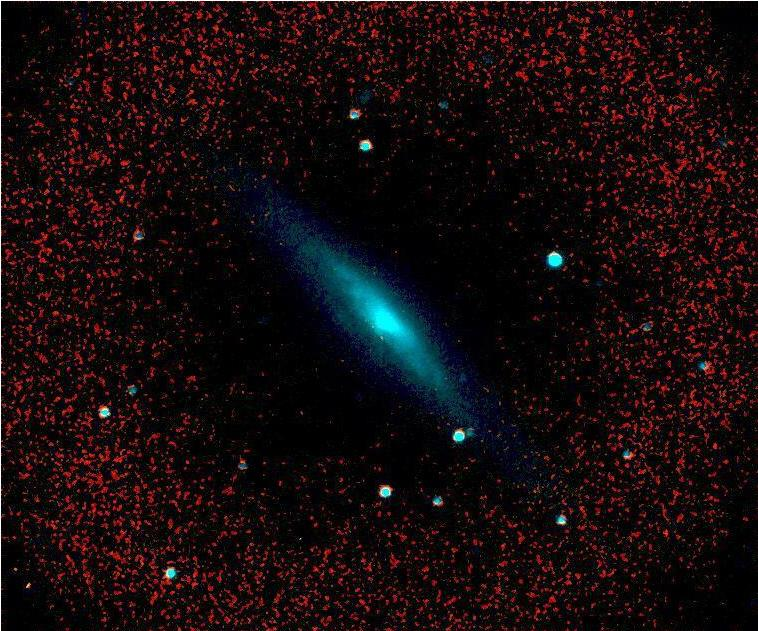star: (317, 253, 347, 283)
